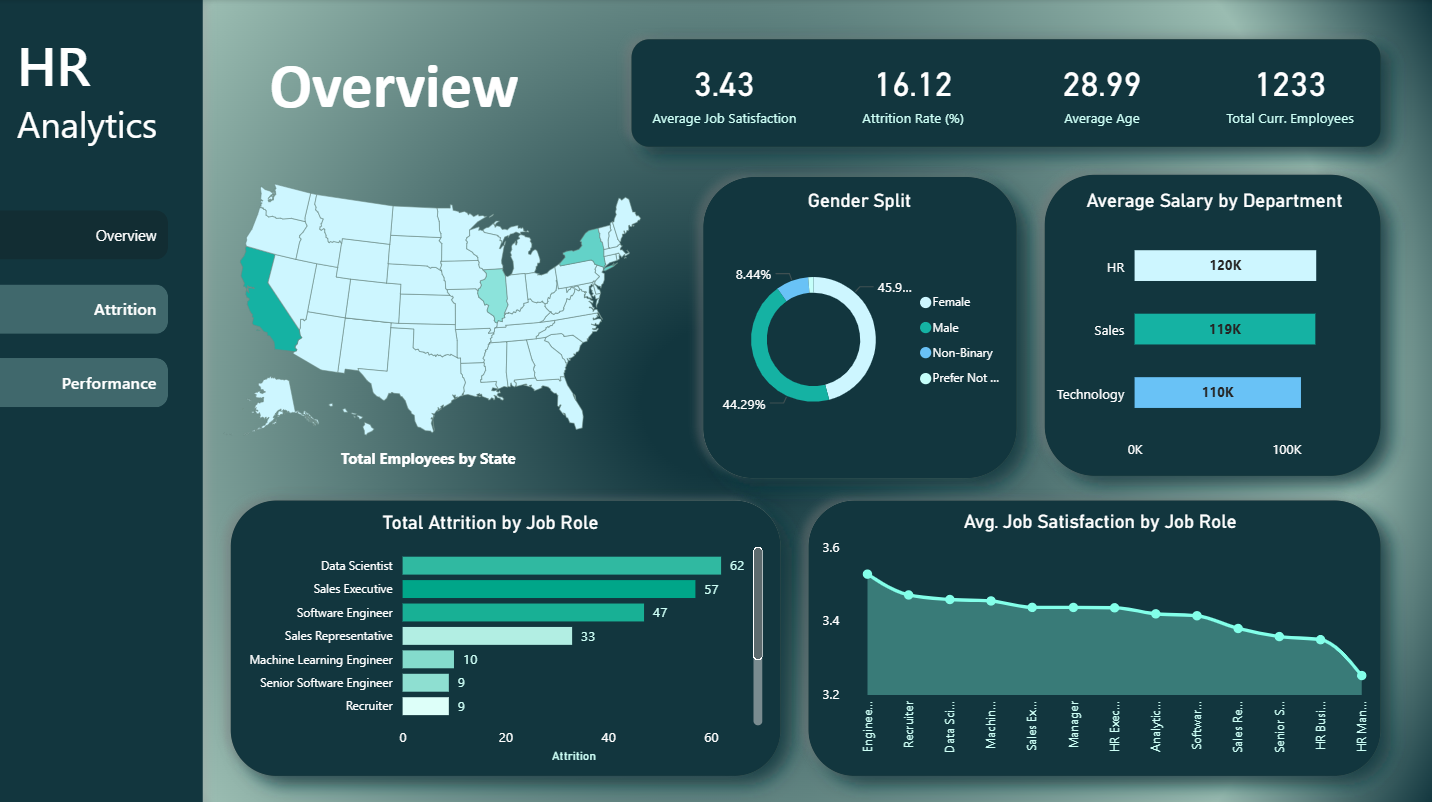

This screenshot's page, from the dashboard's own definition file:
{"tool":"powerbi","page":{"name":"Overview","canvas":[1280,720],"ordinal":0},"visuals":[{"type":"barChart","title":"Total Attrition by Job Role","fields":{"Category":["Employee.JobRole"],"Y":["Employee.Total Attrition"]},"box":[191.2,457.5,496.2,230],"z":0},{"type":"lineChart","title":"Avg. Job Satisfaction by Job Role","fields":{"Y":["Performance rating.Avg Job Satisfaction"],"Category":["Employee.JobRole"]},"box":[730.2,457,507,230.2],"z":1000},{"type":"donutChart","title":"Gender Split","fields":{"Category":["Employee.Gender"],"Y":["CountNonNull(Employee.EmployeeID)"]},"box":[629.1,169.8,280.2,250],"z":2000},{"type":"barChart","title":"Average Salary by Department","fields":{"Category":["Employee.Department"],"Series":["Employee.Department"],"Y":["Avg(Employee.Salary)"]},"box":[934.9,169.8,302.3,251.2],"z":3000},{"type":"shapeMap","fields":{"Category":["Employee.State"]},"box":[175,145,423.8,265],"z":4000},{"type":"textbox","box":[11.2,21.2,163.8,123.8],"z":5000},{"type":"card","fields":{"Values":["Employee.Total Employees"]},"box":[1070,32.3,167.8,100],"z":5000,"group":"g1"},{"type":"textbox","box":[236.2,37.5,301.2,90],"z":6000},{"type":"group","id":"g1","title":"Group 1","box":[563.8,32.3,674,100],"z":7000},{"type":"card","fields":{"Values":["Avg(Performance rating.JobSatisfaction)"]},"box":[563.8,32.3,168.8,100],"z":8000,"group":"g1"},{"type":"textbox","box":[300,396.2,176.2,48.8],"z":8000},{"type":"pageNavigator","box":[0,188.8,151.2,176.2],"z":9000},{"type":"card","fields":{"Values":["Employee.Attrition Rate (%)"]},"box":[732.5,32.3,168.8,100],"z":11000,"group":"g1"},{"type":"card","fields":{"Values":["Avg(Employee.Age)"]},"box":[901.3,32.3,168.8,100],"z":14000,"group":"g1"}]}

Visuals, with their boxes in screenshot pixels (x1, y1, x2, y2), scaled from the page's 1280x720 canvas onto the 1432x802 screenshot:
"Total Attrition by Job Role" barChart: 214/510/769/766
"Avg. Job Satisfaction by Job Role" lineChart: 817/509/1384/765
"Gender Split" donutChart: 704/189/1017/468
"Average Salary by Department" barChart: 1046/189/1384/469
shapeMap - Employee.State: 196/162/670/457
textbox: 13/24/196/162
card - Employee.Total Employees: 1197/36/1385/147
textbox: 264/42/601/142
"Group 1" group: 631/36/1385/147
card - Avg(Performance rating.JobSatisfaction): 631/36/820/147
textbox: 336/441/533/496
pageNavigator: 0/210/169/407
card - Employee.Attrition Rate (%): 819/36/1008/147
card - Avg(Employee.Age): 1008/36/1197/147
